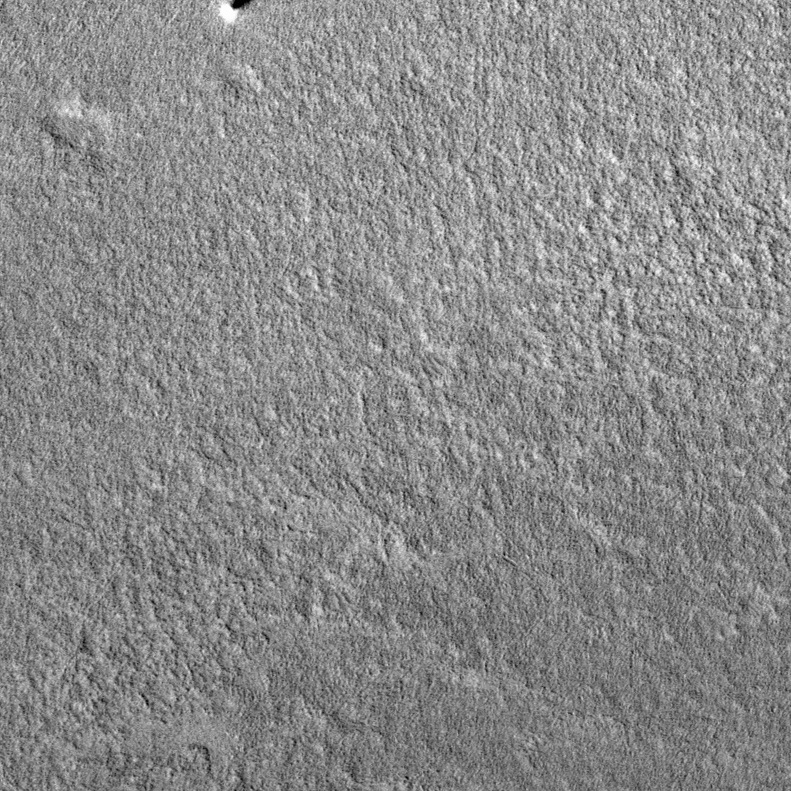dust_devil: (216, 1, 256, 25)
